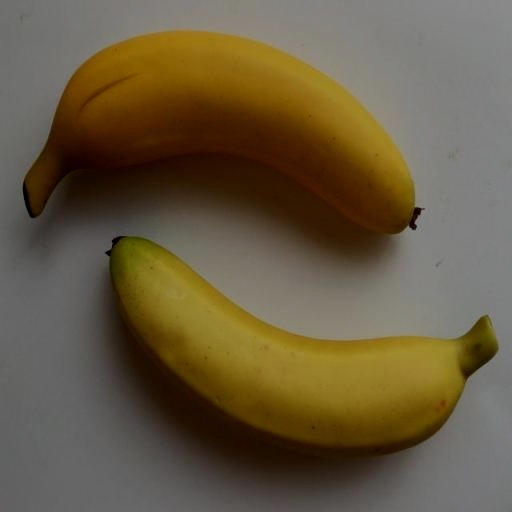fruit: (110, 237, 496, 453), (24, 32, 413, 232)
